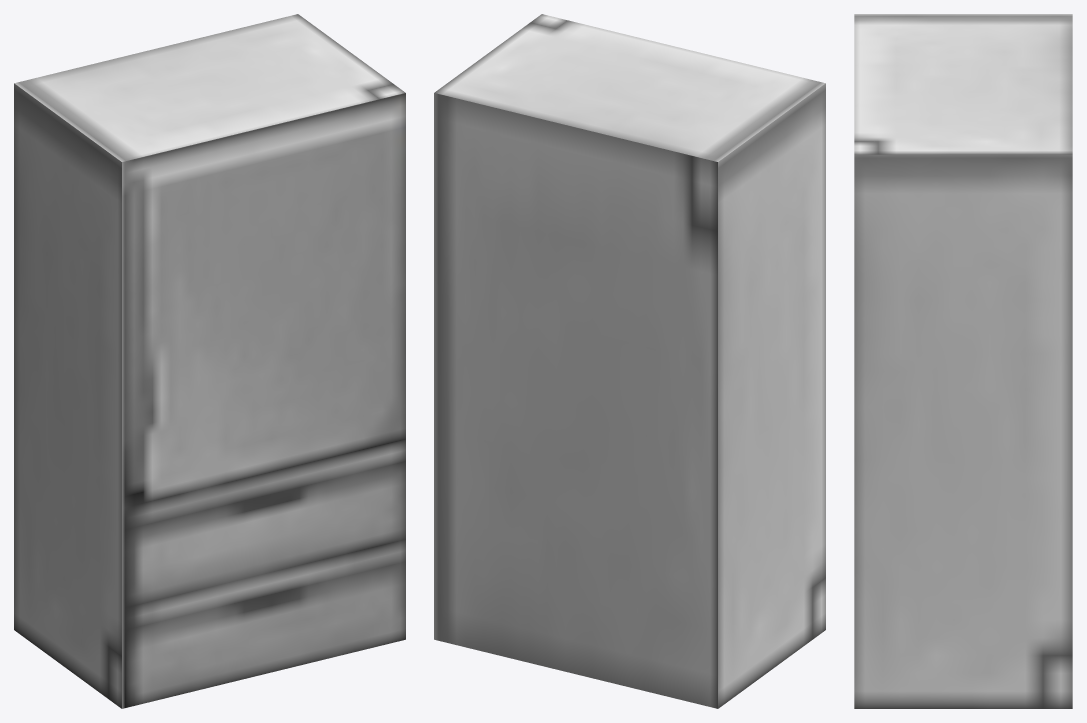
Rendered from fridge.glb.
The picture shows the model from 3 angles, left to right: view 1: azimuth 30°, elevation 25°; view 2: azimuth 150°, elevation 25°; view 3: azimuth 270°, elevation 25°; orthographic projection.
Parts seen in each view (by area): view 1: objects; view 2: objects; view 3: objects.
Boxes of the visible parts, <box> form: objects: <box>14,14,405,708</box>; objects: <box>434,14,825,708</box>; objects: <box>854,14,1072,708</box>.
Bounding box in the file's own units: 38.04 × 70 × 25.
Materials: 1 (1 with a texture image).
